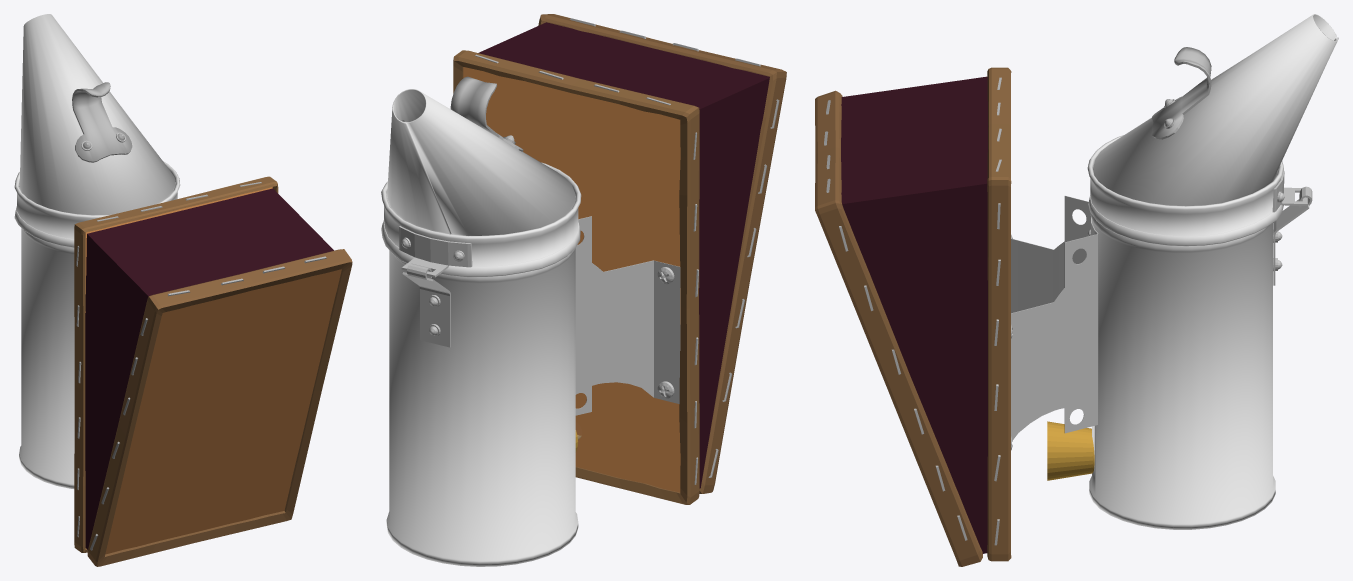
The model's file is enfumoir.fbx.
3 renders of one model, left to right at view 1: azimuth 30°, elevation 25°; view 2: azimuth 150°, elevation 25°; view 3: azimuth 270°, elevation 25°, orthographic. The views are drawn at different scales.
Parts seen in each view (by area): view 1: PlanchePompe.001, Cube, Tete, Reservoir, PlanchePompe, Embout_tete; view 2: Reservoir, PlanchePompe, Tete, Cube, Fixation_pompe, PlanchePompe.001, Fixation_corps, Fixation_tete, Embout_tete; view 3: Reservoir, Cube, Tete, Fixation_pompe, PlanchePompe.001, PlanchePompe, Embout_tete, Fixation_corps.
Boxes of the visible parts, box(x1,y1,x2,y2) form: PlanchePompe.001: box(87, 249, 352, 566); Cube: box(85, 188, 333, 549); Tete: box(14, 14, 180, 247); Reservoir: box(19, 228, 74, 488); PlanchePompe: box(74, 176, 278, 552); Embout_tete: box(72, 82, 132, 162); Reservoir: box(386, 248, 578, 566); PlanchePompe: box(453, 50, 699, 504); Tete: box(381, 89, 581, 277); Cube: box(478, 22, 769, 488); Fixation_pompe: box(575, 216, 680, 415); PlanchePompe.001: box(538, 14, 786, 493); Fixation_corps: box(402, 263, 450, 347); Fixation_tete: box(399, 226, 472, 277); Embout_tete: box(450, 76, 523, 151); Reservoir: box(1047, 213, 1275, 529); Cube: box(841, 76, 988, 553); Tete: box(1087, 14, 1338, 246); Fixation_pompe: box(1011, 195, 1098, 450); PlanchePompe.001: box(815, 90, 982, 566); PlanchePompe: box(987, 67, 1011, 561); Embout_tete: box(1152, 47, 1211, 139); Fixation_corps: box(1273, 186, 1312, 285).
Bounding box in the file's own units: 12.82 × 25.68 × 24.65.
